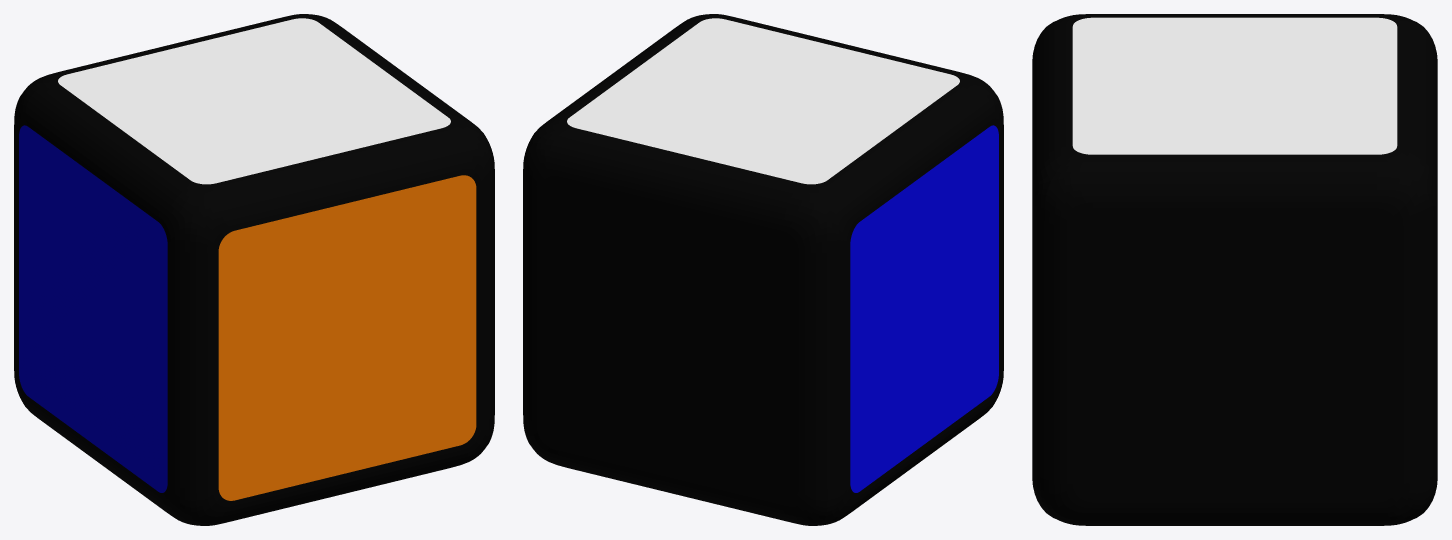
File: bow.fbx
3 renders of one model, left to right at view 1: azimuth 30°, elevation 25°; view 2: azimuth 150°, elevation 25°; view 3: azimuth 270°, elevation 25°, orthographic. The views are drawn at different scales.
Parts seen in each view (by area): view 1: bow; view 2: bow; view 3: bow.
Boxes of the visible parts, box(x1,y1,x2,y2) form: bow: box(14, 14, 494, 525); bow: box(523, 14, 1003, 525); bow: box(1032, 14, 1437, 525).
Size of the model in its own units: 100 by 100 by 100.
